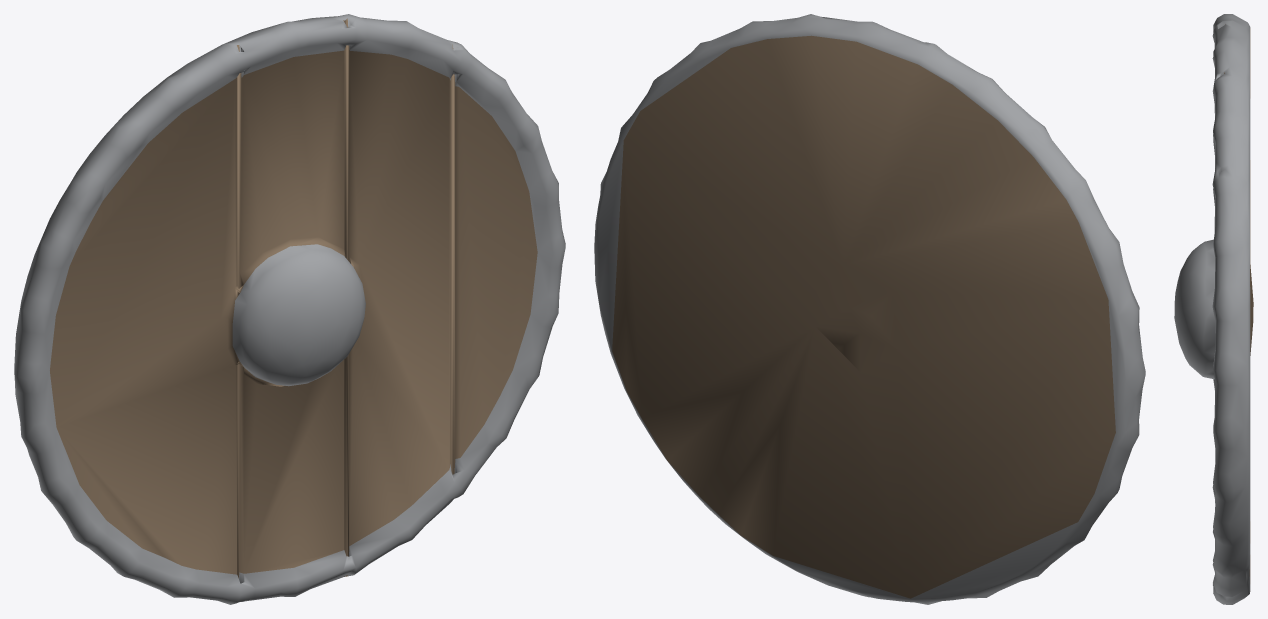
File: Shield.fbx
3 renders of one model, left to right at view 1: azimuth 30°, elevation 25°; view 2: azimuth 150°, elevation 25°; view 3: azimuth 270°, elevation 25°, orthographic. The views are drawn at different scales.
Parts seen in each view (by area): view 1: Shield; view 2: Shield; view 3: Shield.
Boxes of the visible parts, bbox=[...] form: Shield: bbox=[14, 14, 565, 604]; Shield: bbox=[594, 14, 1145, 604]; Shield: bbox=[1174, 14, 1253, 604].
Bounding box in the file's own units: 30.8 × 30.79 × 4.12.
